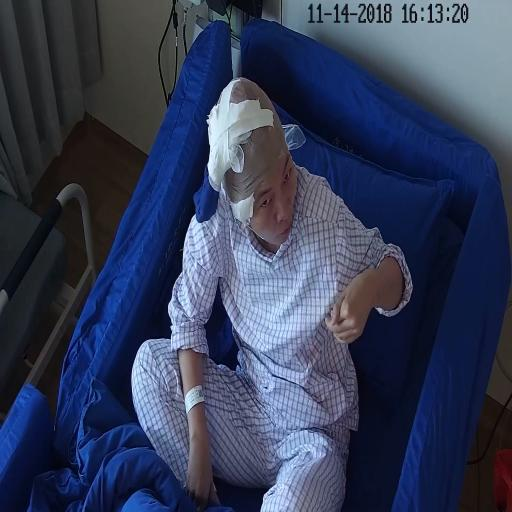Seizure: (222, 126, 301, 244)
